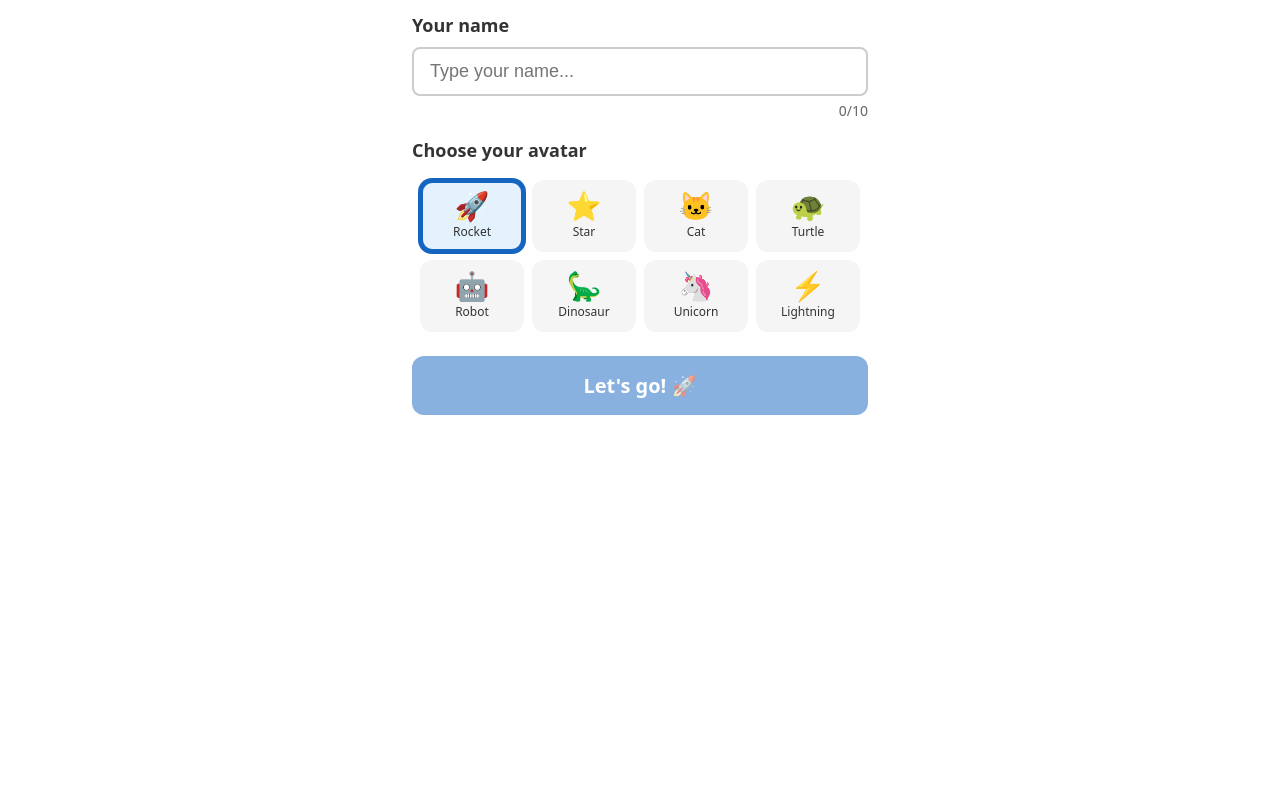
Scenario: NewPlayerForm › duplicate name overwrite confirmation (FR-012) › dismisses dialog when "Go back" is clicked
Type "Mia" into the field labelled "Your name" at (640, 72), box left=412, top=47, right=868, bottom=96
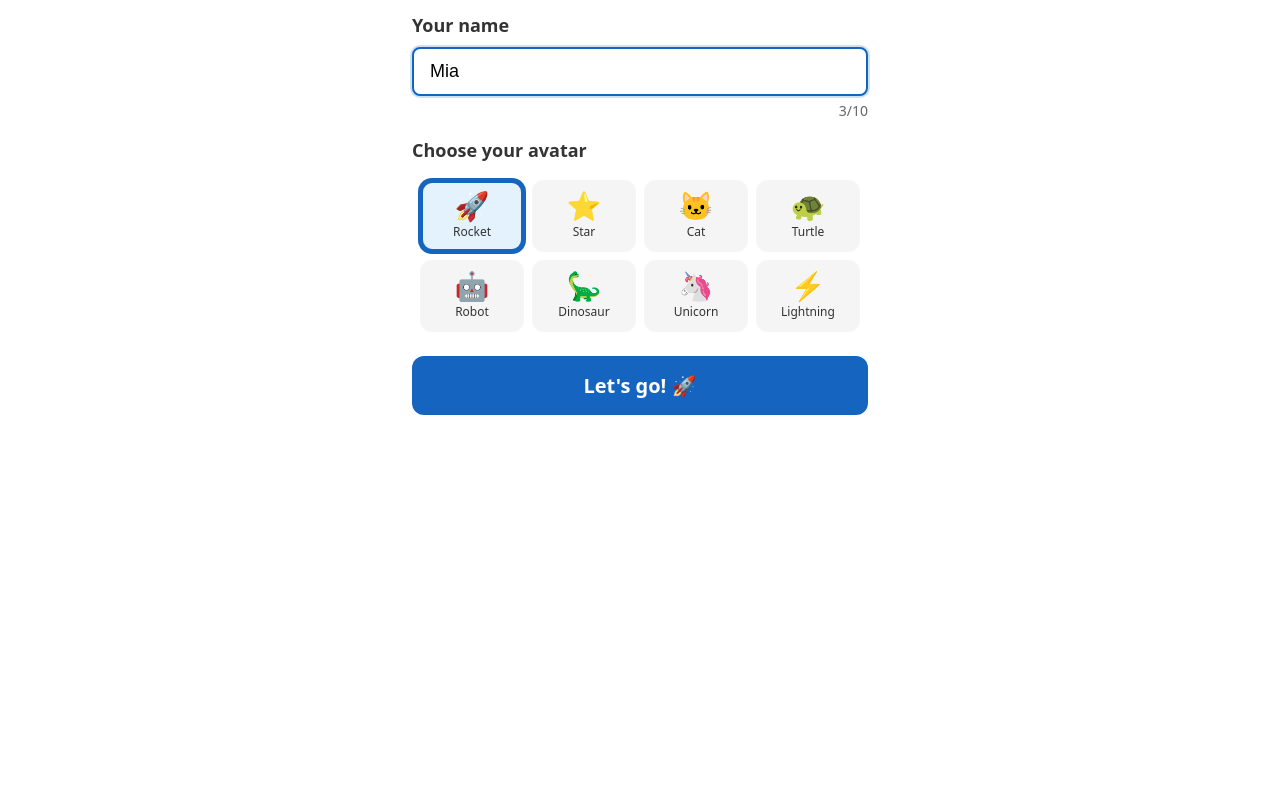
Click the button "Let's go! 🚀" at (640, 386), box left=412, top=356, right=868, bottom=415
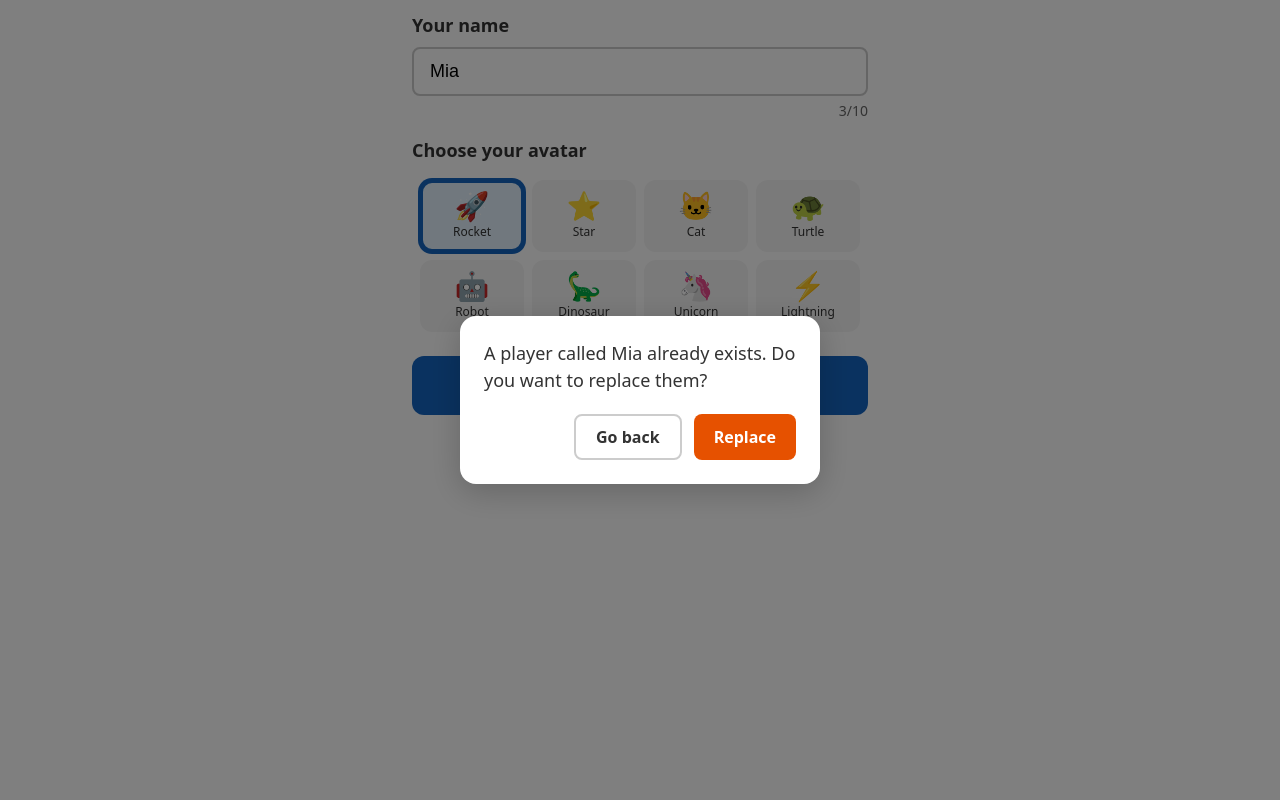
Now the dialog is shown, box left=460, top=316, right=820, bottom=484
Click Go back
Click the button "Go back" at (628, 437), box left=574, top=414, right=682, bottom=460
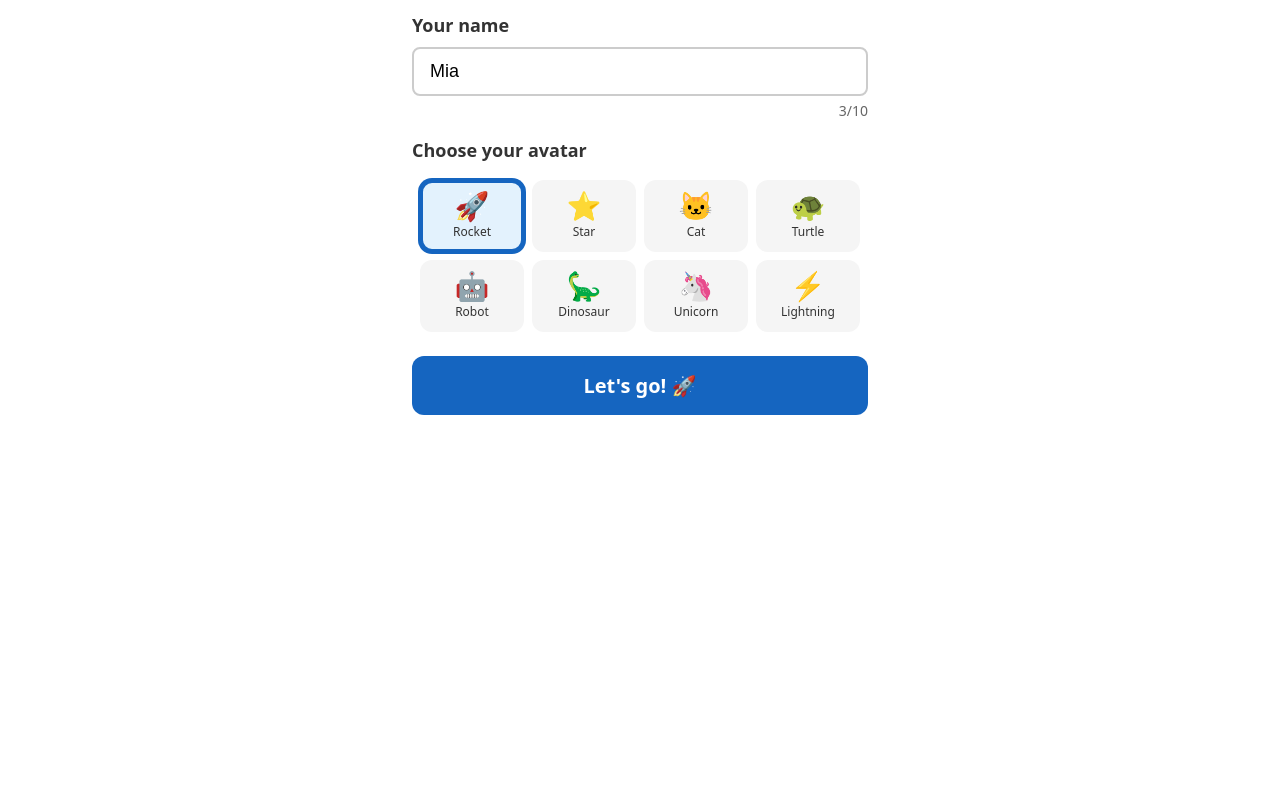
Now the dialog is gone
